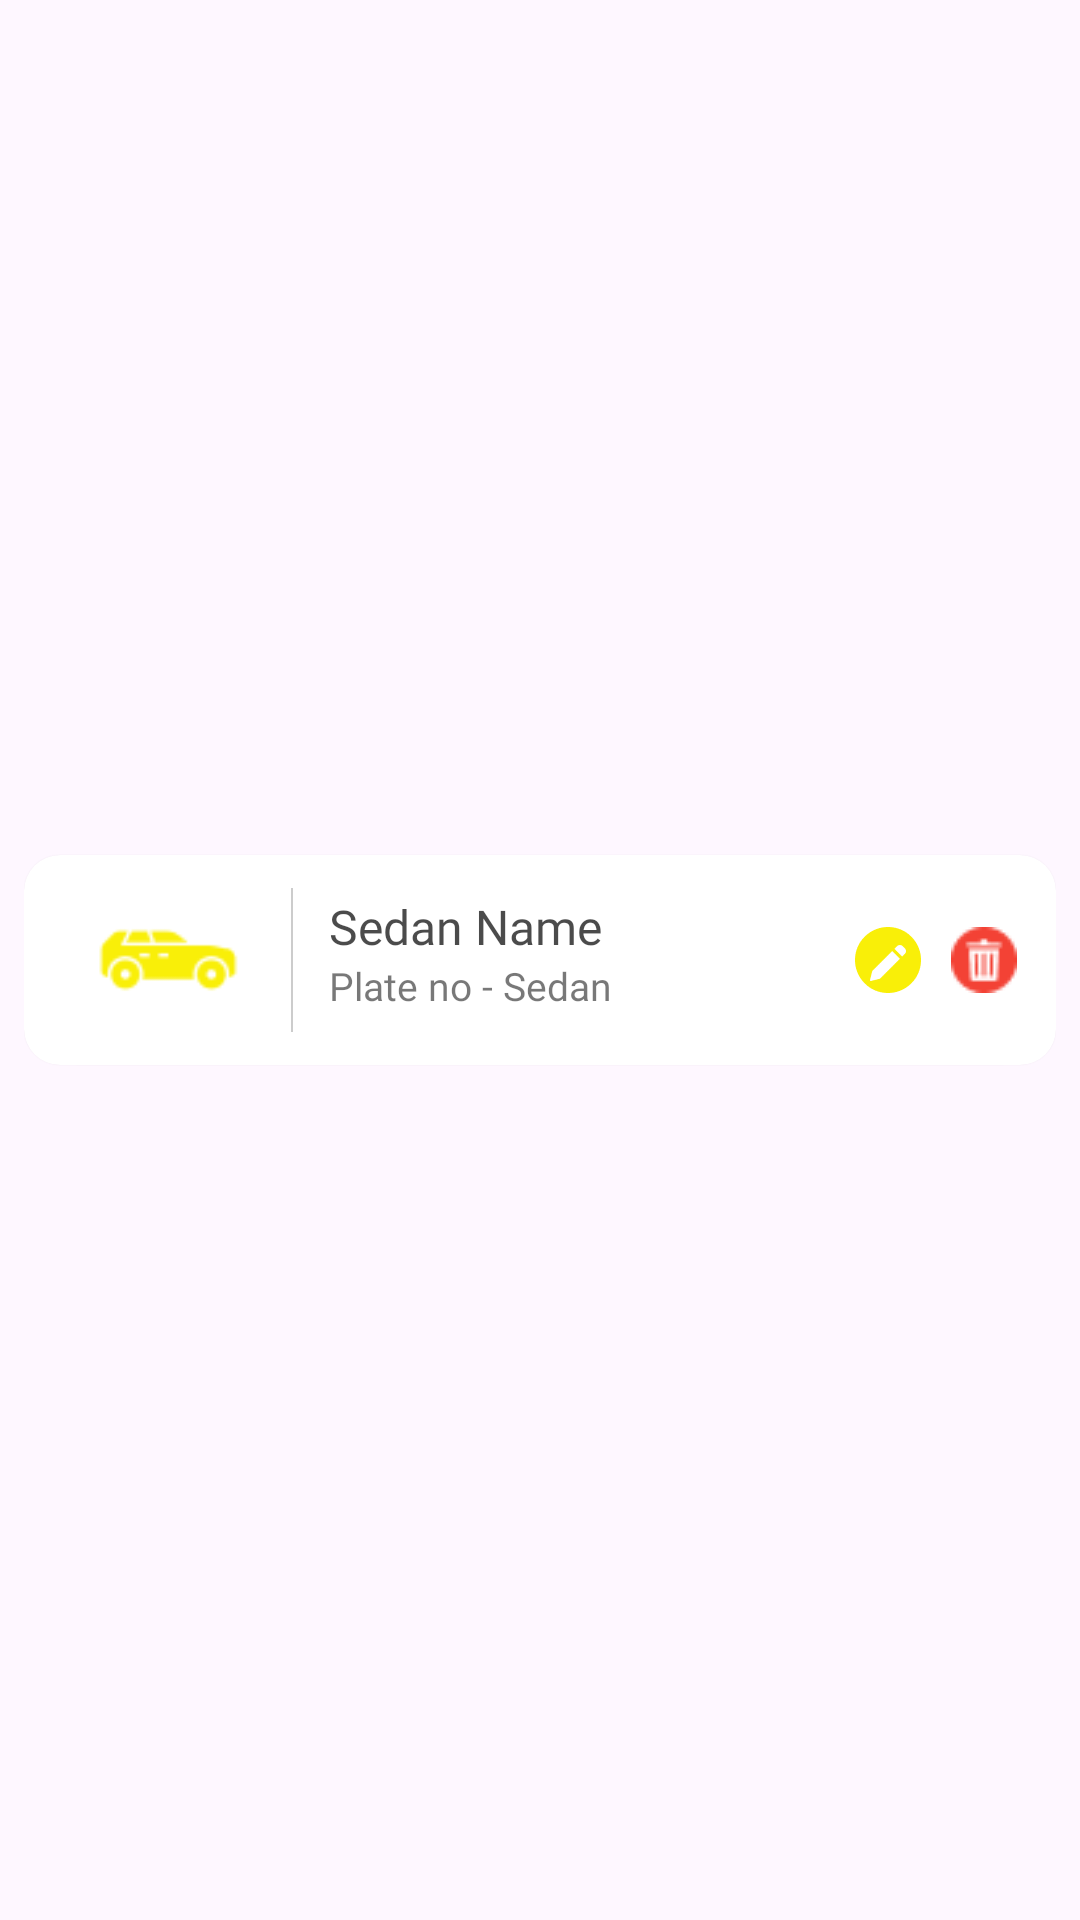

Icon bounding boxes for this 1080x1920 phone screenshot, format (x1, y1, x2, y2):
edit: (855, 927, 921, 993)
remove: (951, 927, 1017, 993)
suv: (99, 929, 238, 991)
